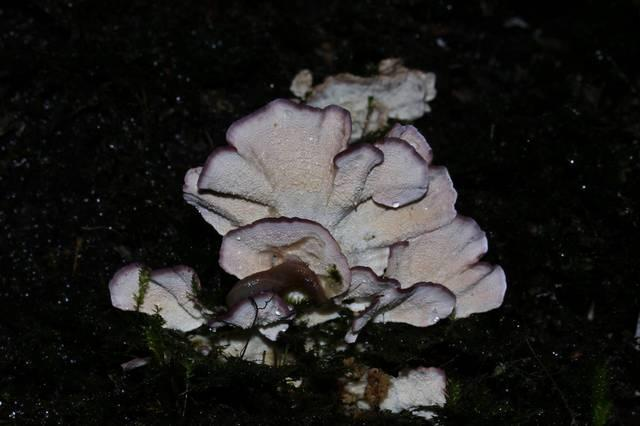Non-edible Mushroom: (179, 96, 507, 347), (107, 260, 208, 333)
